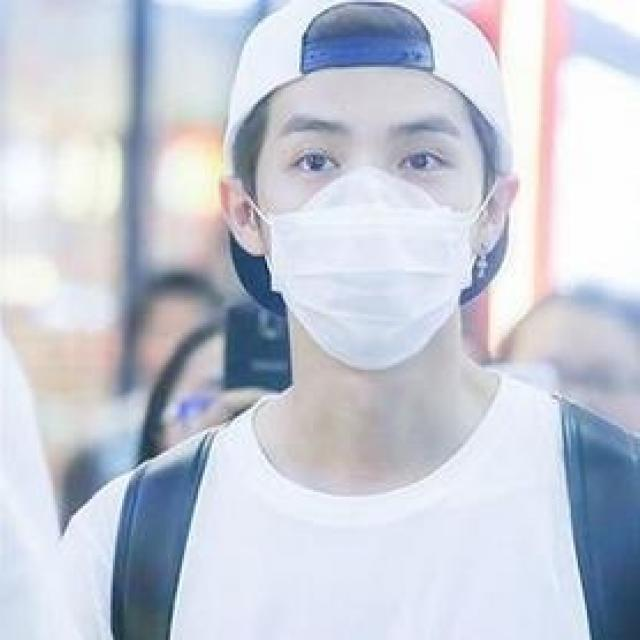mask: (261, 85, 466, 372)
